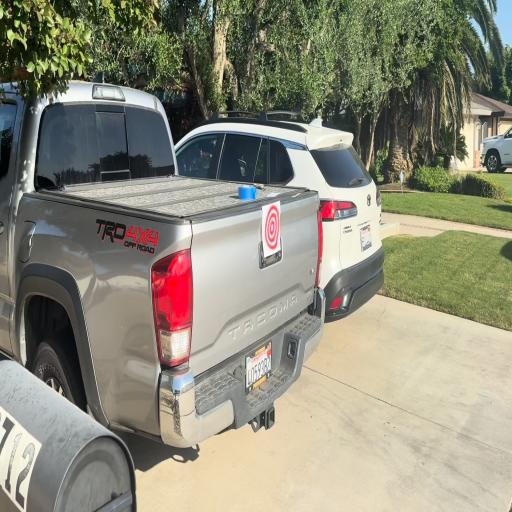bullseye: (262, 201, 281, 258)
